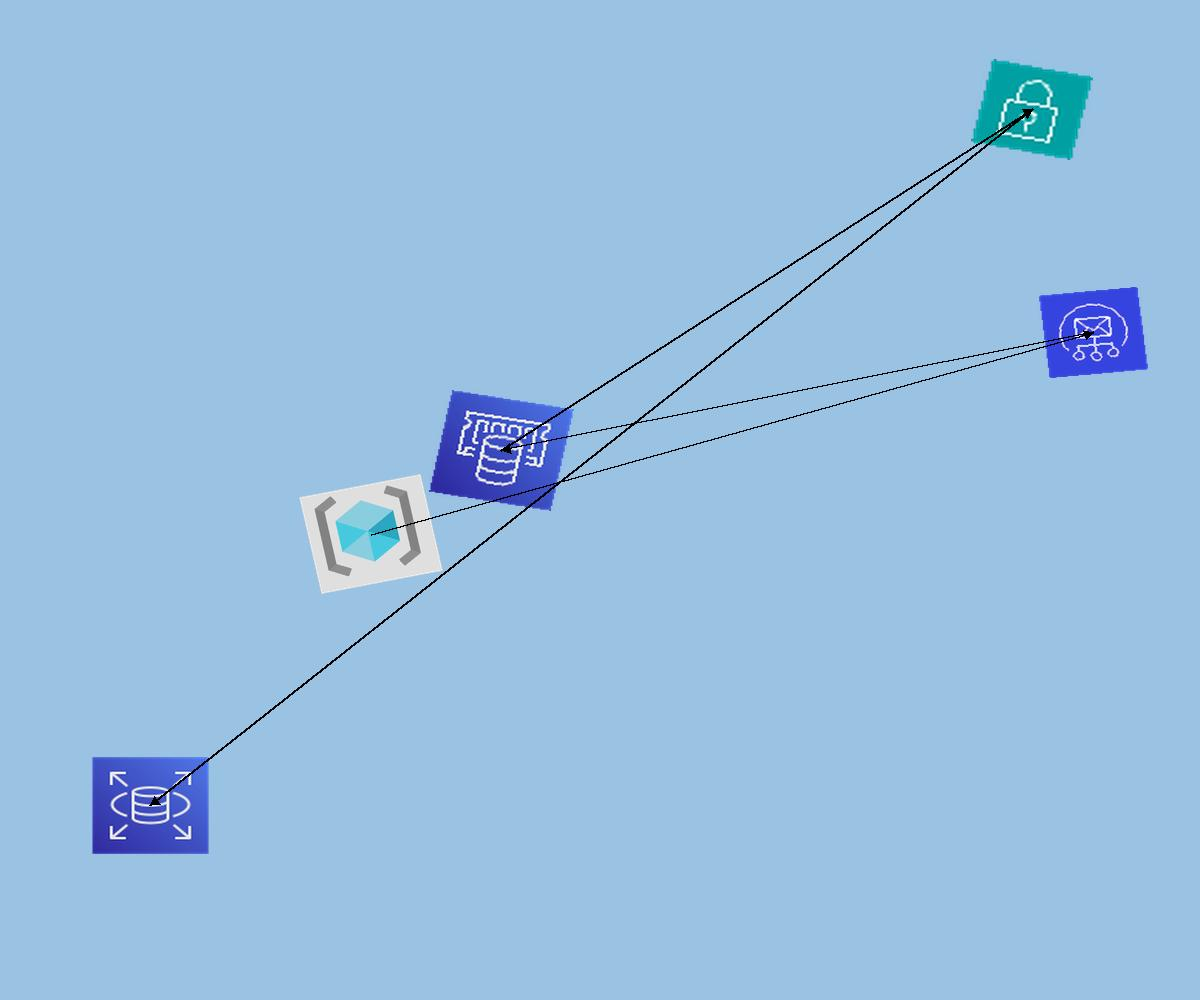AWS-ElastiCache: (429, 390, 574, 511)
AWS-Private-subnet: (971, 59, 1093, 160)
AWS-RDS: (91, 756, 210, 855)
AWS-Simple-Email-Service: (1038, 286, 1149, 379)
Azure_resource_group: (299, 474, 443, 594)
